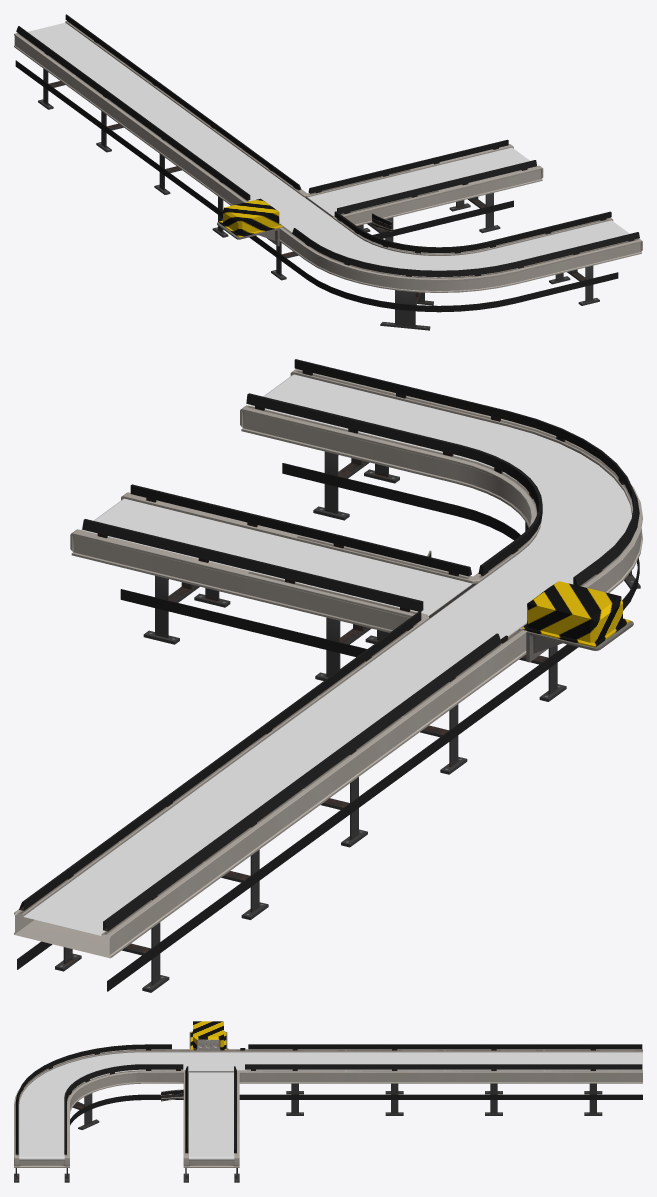
Rendered from ConveyorBelt.fbx.
3 views of the same model, one above another, from view 1: azimuth 30°, elevation 25°; view 2: azimuth 150°, elevation 25°; view 3: azimuth 270°, elevation 25° (orthographic). The views are drawn at different scales.
Parts seen in each view (by area): view 1: ConveyorBelt_main, ConveyorBelt_guards, ConveyorBelt_effector_box; view 2: ConveyorBelt_main, ConveyorBelt_guards, ConveyorBelt_effector_box; view 3: ConveyorBelt_main, ConveyorBelt_guards, ConveyorBelt_effector_box.
Part boxes in pixels (bbox=[...]): ConveyorBelt_main: bbox=[14, 21, 642, 330]; ConveyorBelt_guards: bbox=[16, 14, 639, 277]; ConveyorBelt_effector_box: bbox=[217, 198, 282, 246]; ConveyorBelt_main: bbox=[14, 369, 642, 992]; ConveyorBelt_guards: bbox=[19, 359, 639, 931]; ConveyorBelt_effector_box: bbox=[522, 581, 633, 662]; ConveyorBelt_main: bbox=[14, 1048, 642, 1182]; ConveyorBelt_guards: bbox=[15, 1044, 642, 1154]; ConveyorBelt_effector_box: bbox=[189, 1021, 227, 1050].
Size of the model in its own units: 742 by 351 by 73.02.
